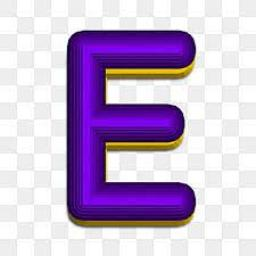e: (62, 30, 202, 220)
